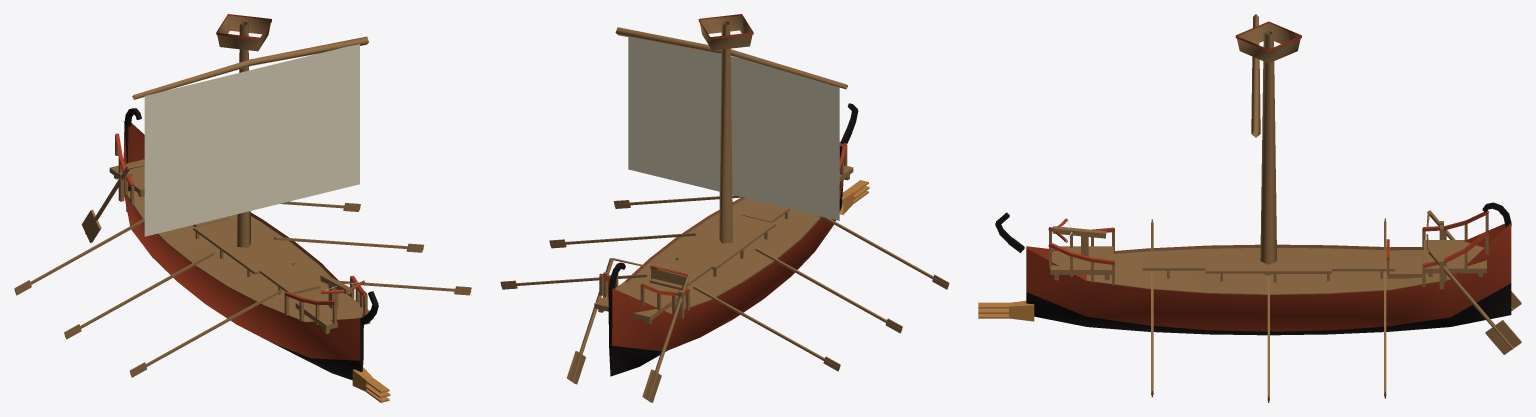
The model's file is ship_ram_blockout_LOD2.obj.
The picture shows the model from 3 angles, left to right: view 1: azimuth 30°, elevation 25°; view 2: azimuth 150°, elevation 25°; view 3: azimuth 270°, elevation 25°; orthographic projection. The views are drawn at different scales.
Visible parts, largest first — view 1: ship_ram_blockout_LOD2; view 2: ship_ram_blockout_LOD2; view 3: ship_ram_blockout_LOD2.
Part boxes in pixels (x1,y1,x2,y2): ship_ram_blockout_LOD2: (14,14,471,402); ship_ram_blockout_LOD2: (500,14,949,402); ship_ram_blockout_LOD2: (978,14,1521,402).
Size of the model in its own units: 16.04 by 12.51 by 20.39.
